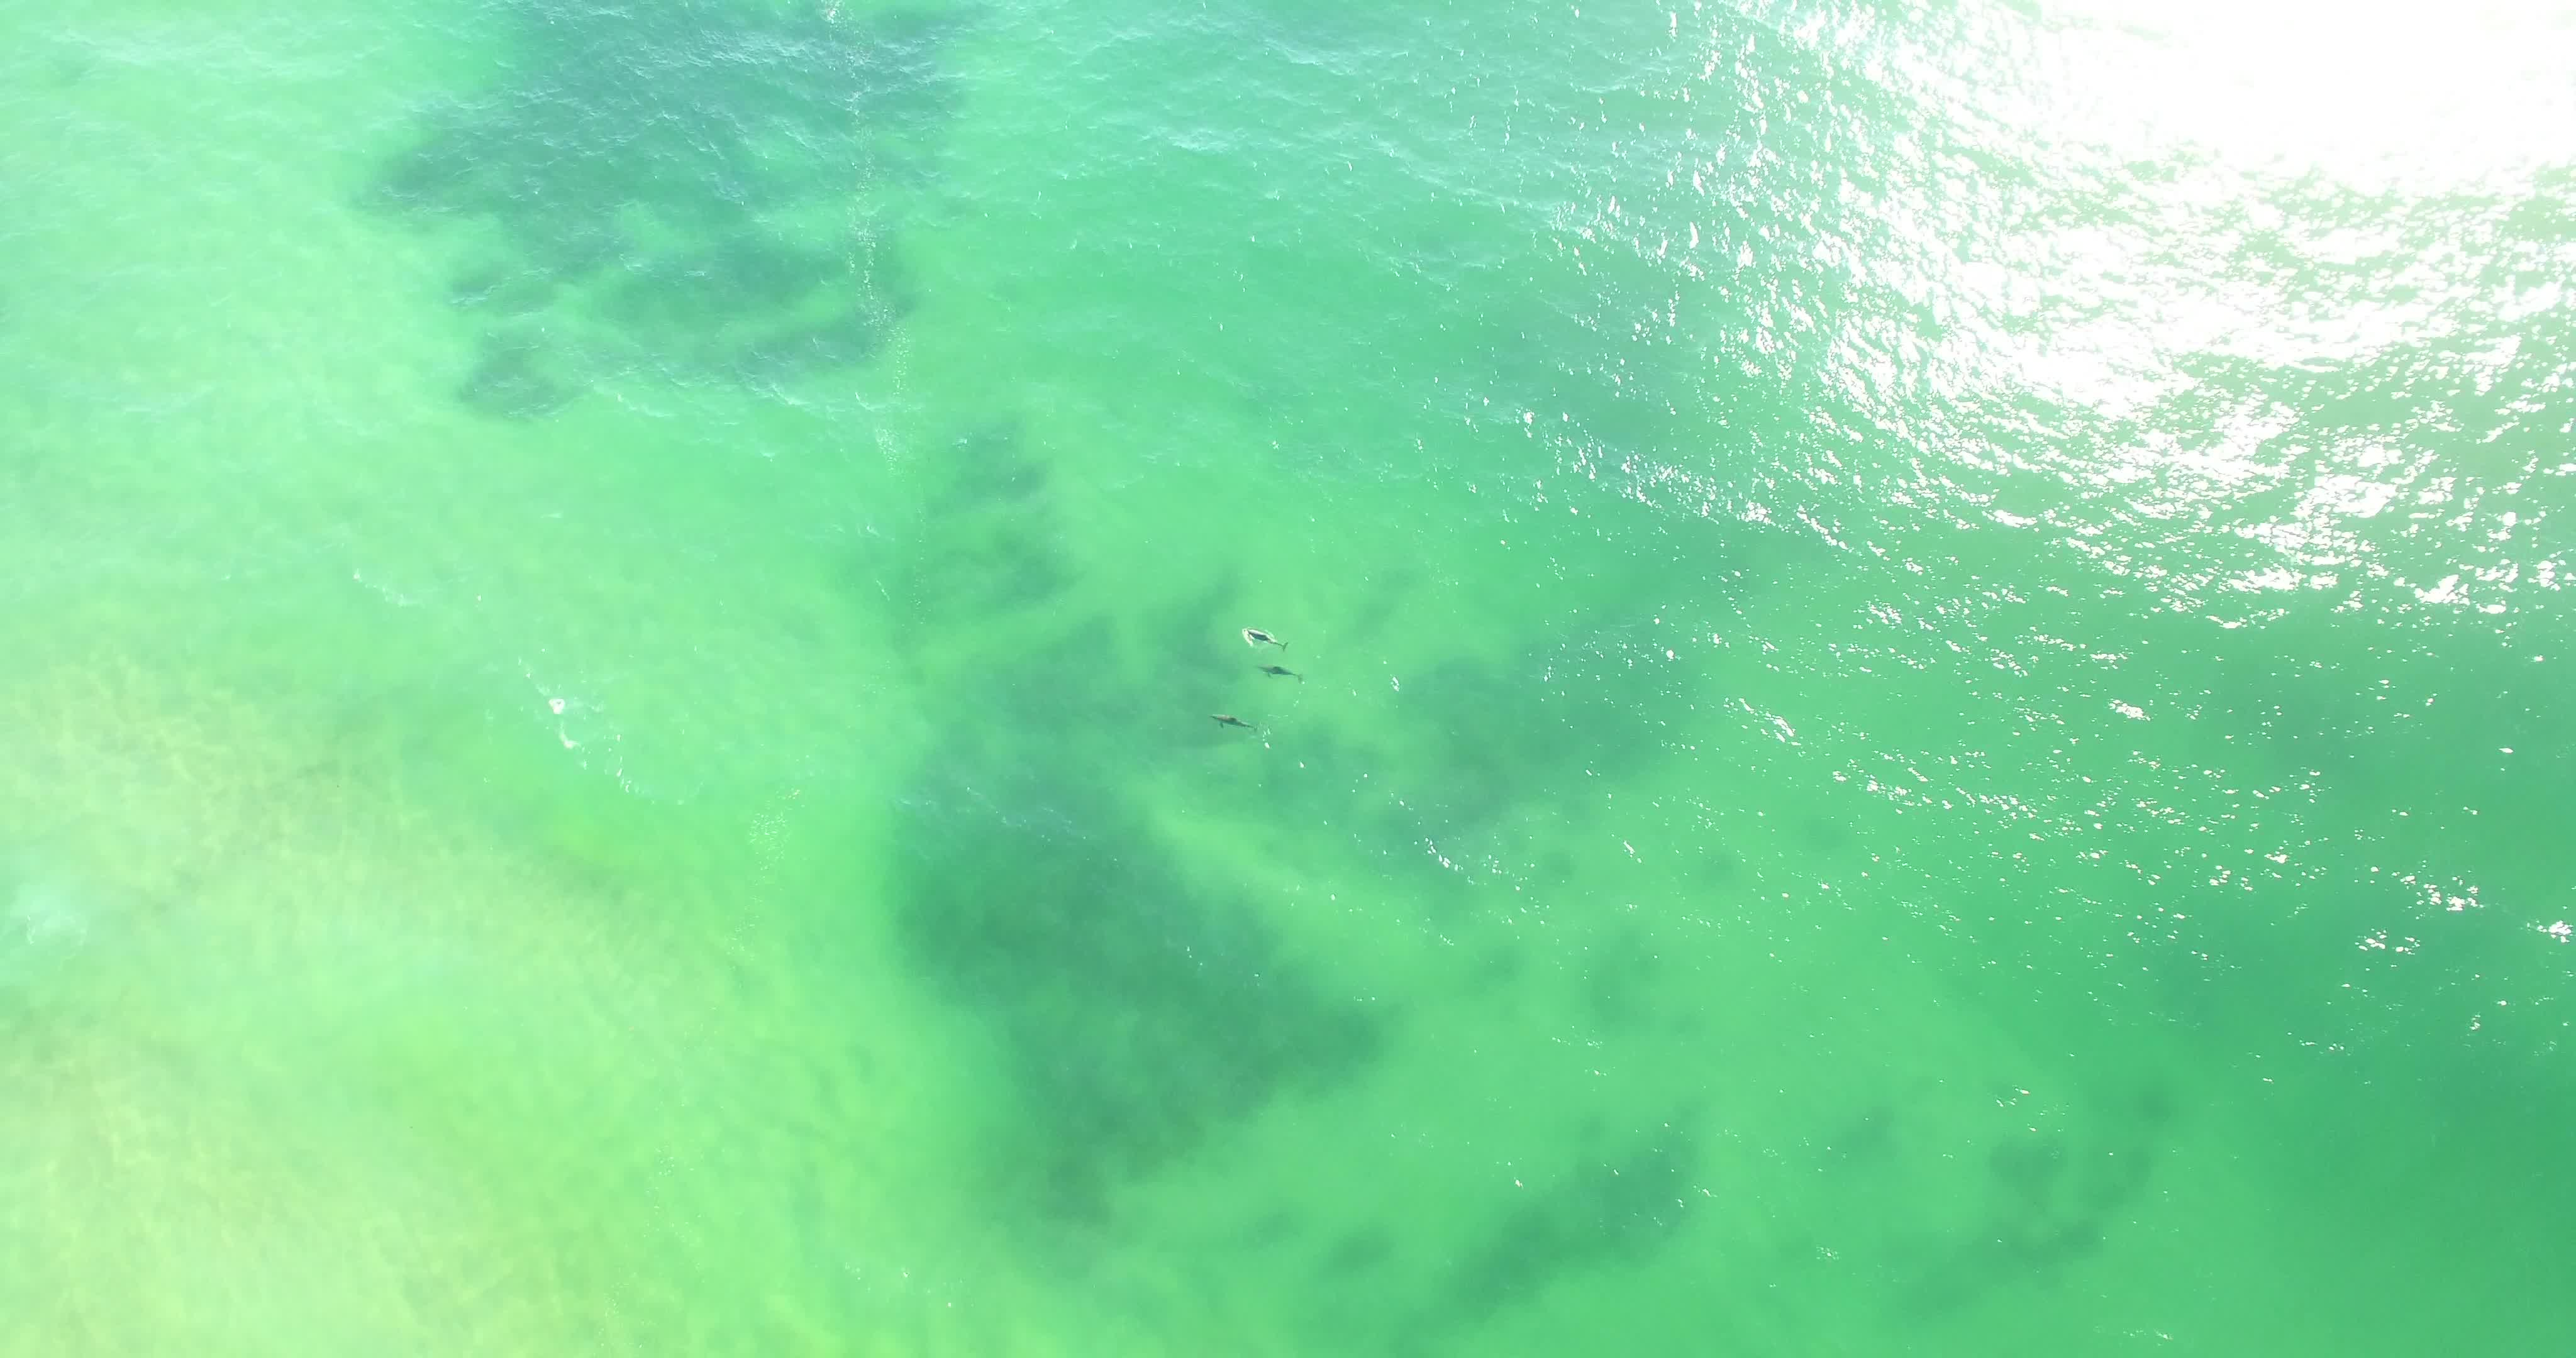dolphin: (1189, 697, 1269, 741), (1242, 653, 1314, 687), (1230, 620, 1295, 654)
